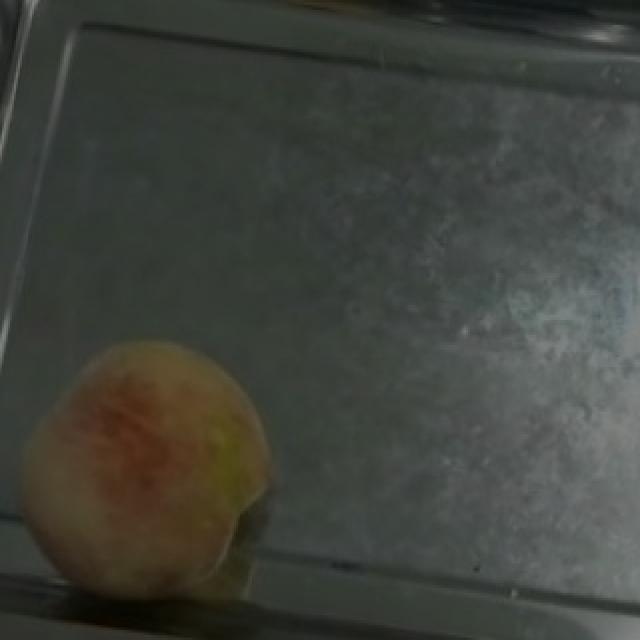Fruit: (0, 300, 304, 633)
